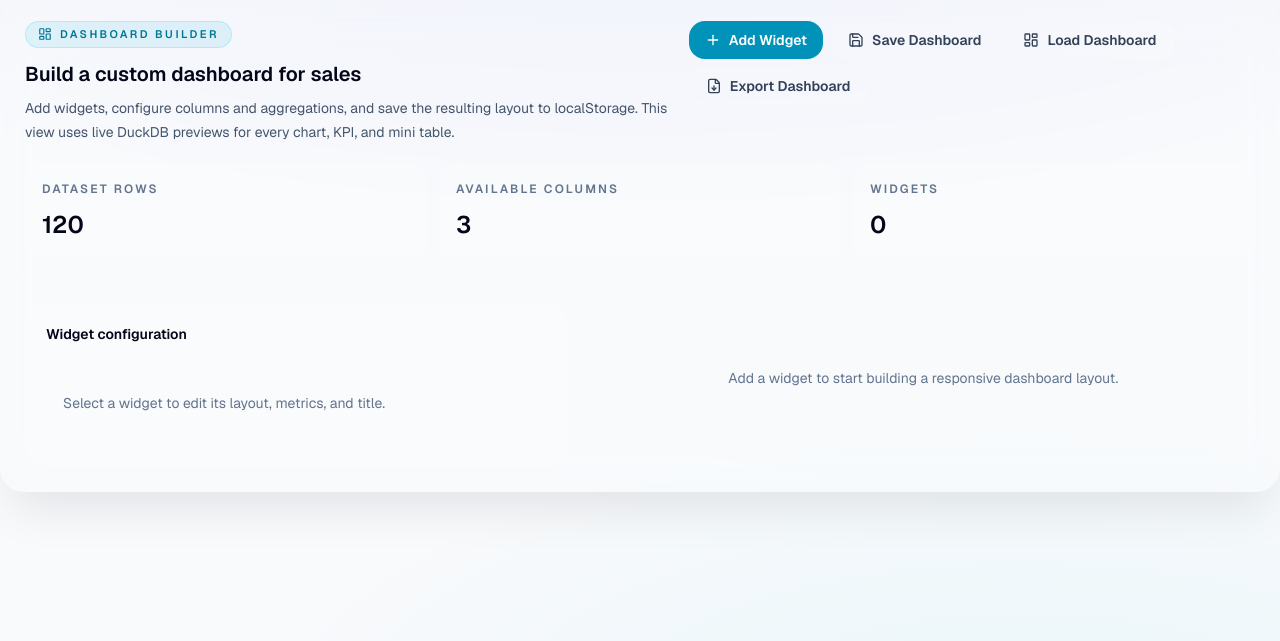
Test case: DashboardBuilder › loads a saved dashboard and exports it as standalone HTML
The width and height of the screenshot is (1280, 641).
Click the button "Load Dashboard".
click(1090, 40)  # box [1006,21,1173,59]
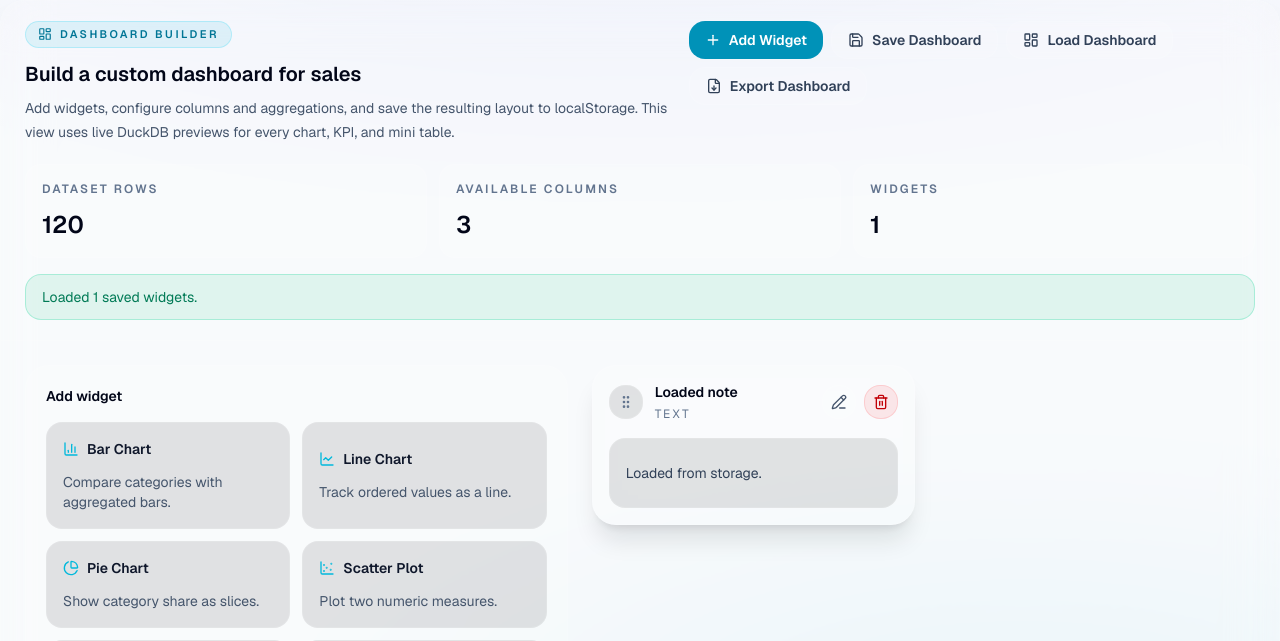
Now the text "Loaded note" is shown, box [655,382,738,402]
Now the text "Loaded 1 saved widgets." is shown, box [25,274,1255,320]
Click the button "Export Dashboard".
click(778, 86)  # box [689,67,867,105]
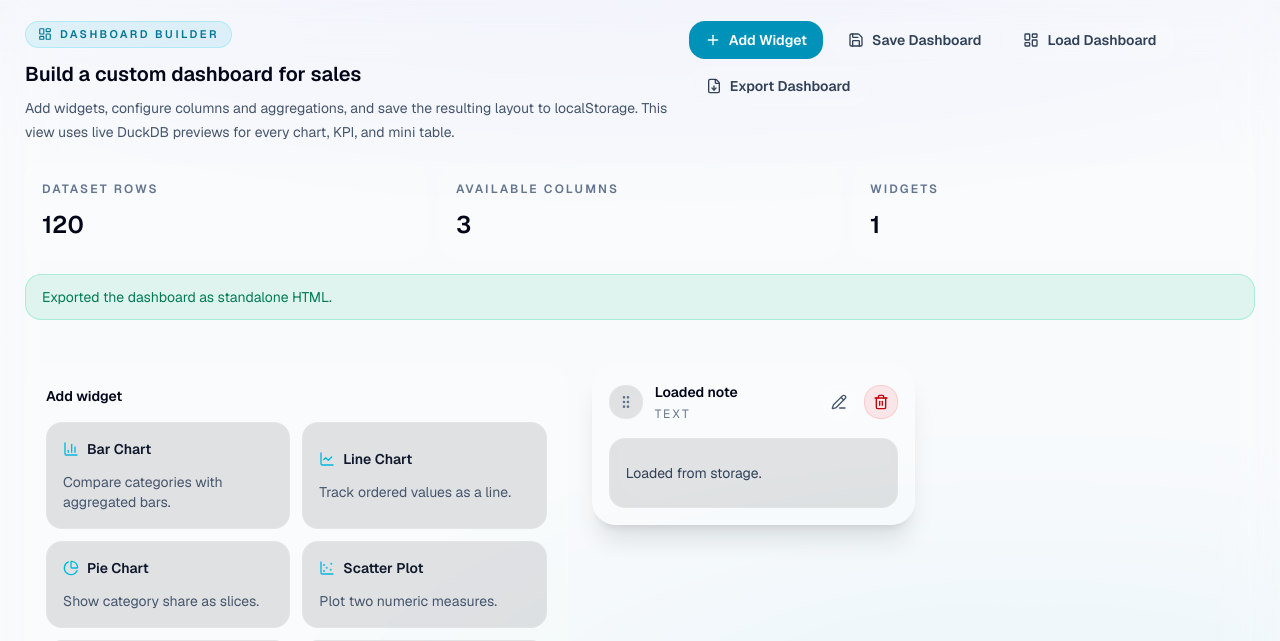
Now the text "Exported the dashboard as standalone HTML." is shown, box [25,274,1255,320]
